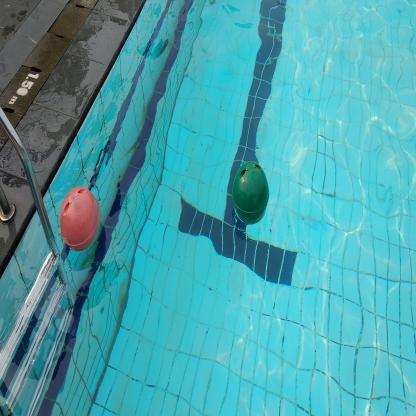green_buoy: (228, 152, 276, 234)
red_buoy: (57, 178, 104, 257)
